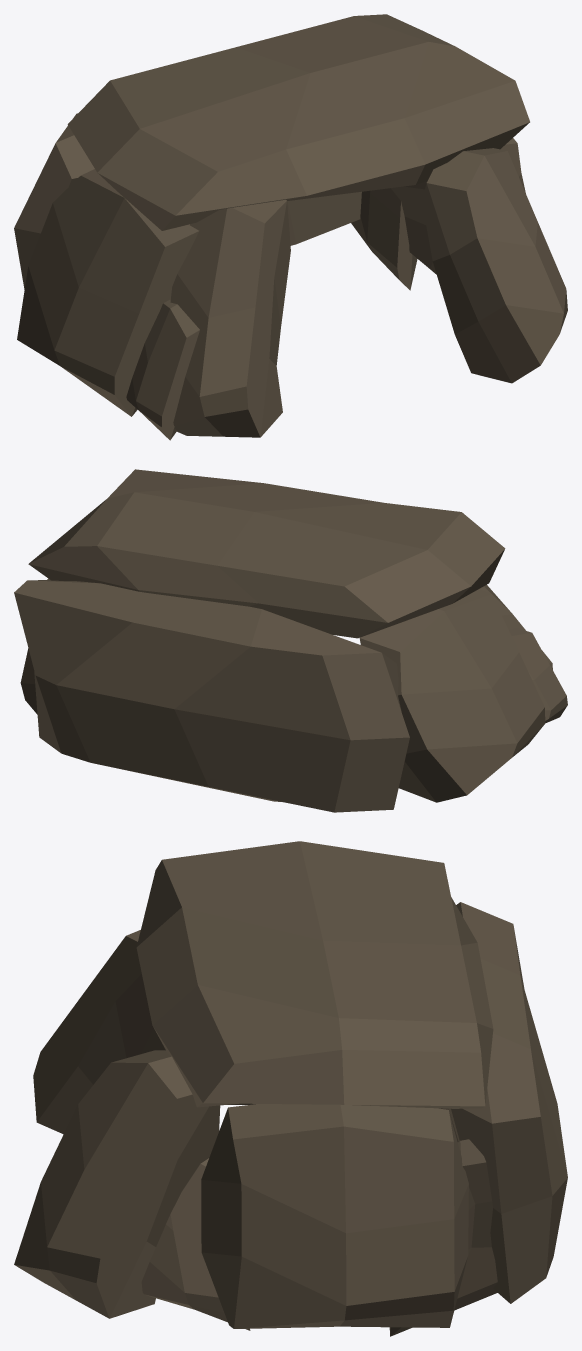
Rendered from Cueva.fbx.
3 views of the same model, one above another, from view 1: azimuth 30°, elevation 25°; view 2: azimuth 150°, elevation 25°; view 3: azimuth 270°, elevation 25° (orthographic). The views are drawn at different scales.
Visible parts, largest first — view 1: Cave, Cave.003, Cave.002; view 2: Cave, Cave.003; view 3: Cave, Cave.004, Cave.002.
Boxes of the visible parts, box(x1,y1,x2,y2) form: Cave: box(14, 14, 567, 437); Cave.003: box(126, 299, 199, 440); Cave.002: box(351, 188, 417, 290); Cave: box(14, 469, 552, 812); Cave.003: box(509, 628, 567, 723); Cave: box(14, 841, 567, 1328); Cave.004: box(141, 1158, 250, 1330); Cave.002: box(389, 1139, 497, 1336).
Size of the model in its own units: 2183 by 1154 by 1800.
